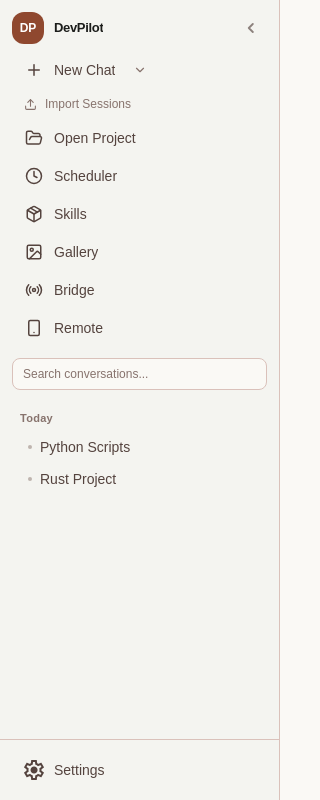
Test: Sidebar › filters sessions when typing short search query (local filter)
Step 1. Type "Ru" into the field with placeholder "Search conversations..." → x=140, y=374, box top-left (12, 358), bottom-right (267, 390)
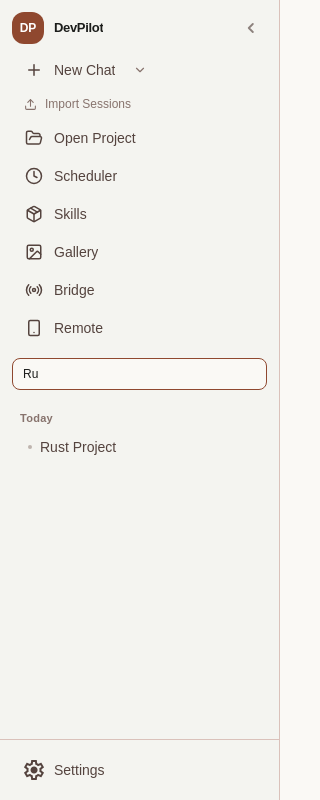
Expected: the text "Rust Project" is shown, top-left (40, 438), bottom-right (116, 454)
Expected: the button "Python Scripts" is gone
